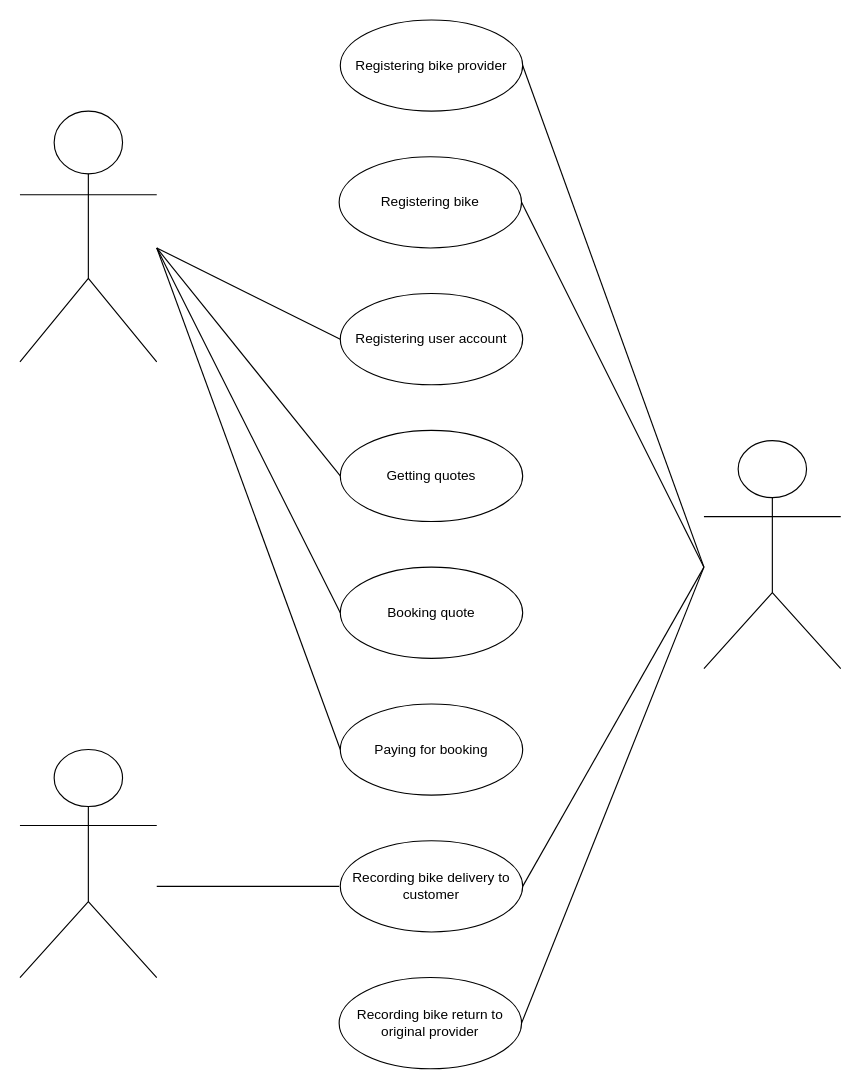
This 861x1089 diagram has some shape labels left out. The box of each missing label's shape, as (x1, y1, x2, y2) in pixels:
Bike provider: (703, 439, 841, 669)
Customer: (19, 110, 157, 362)
Delivery company: (19, 748, 157, 978)
